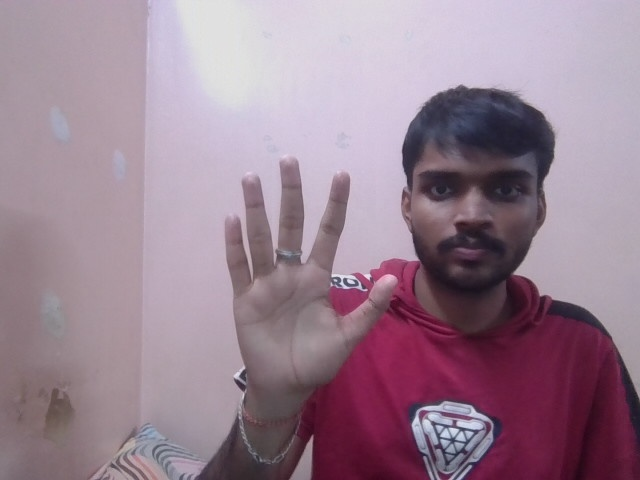Hello: (213, 151, 397, 387)
